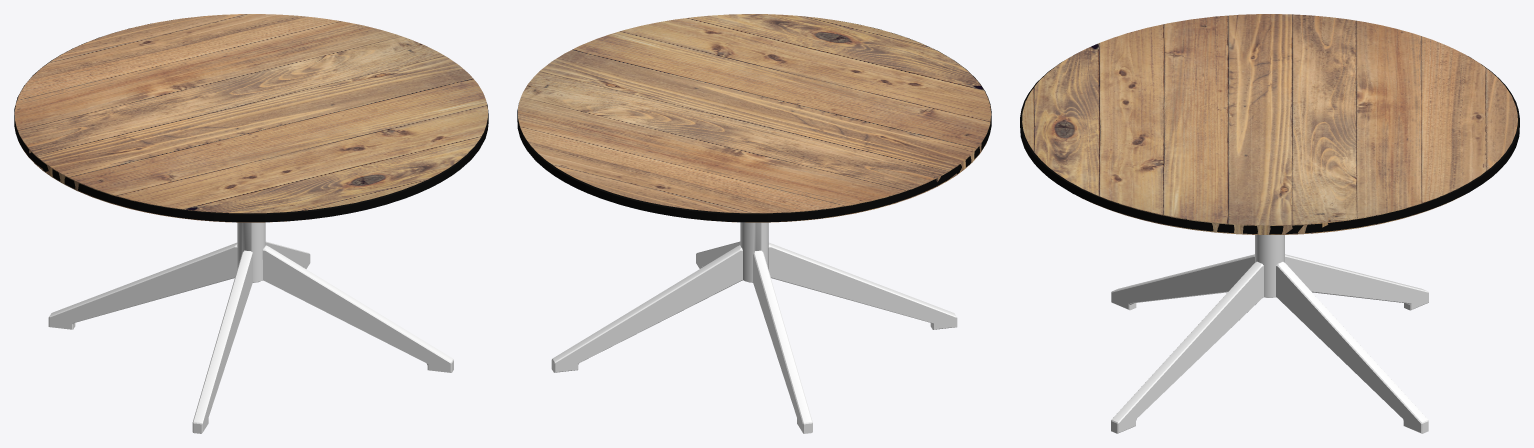
The model's file is model-krug-new.glb.
The picture shows the model from 3 angles, left to right: view 1: azimuth 30°, elevation 25°; view 2: azimuth 150°, elevation 25°; view 3: azimuth 270°, elevation 25°; orthographic projection. The views are drawn at different scales.
Parts seen in each view (by area): view 1: L_8d966dca_8afe_458f_9fc5_cabb543fb8d6_C1_I4, L_d5f370f3_7af2_4852_b3c4_884c1f749d2d_C1_I7, L_bbff62fc_4103_4c9c_8e8e_c560601854be_C1_I5, L_ea61aa8d_9d6e_4439_aafc_8b4f5b4d2b37_C1_I8, L_87a5ad65_50b4_454e_a42e_22bc071fdc33_C1_I3, L_70e3f1c8_df53_4a0b_abdf_076ae4eab81c_C1_I2, L_bfd296df_4c05_4615_90de_c7a12348349b_C1_I6; view 2: L_8d966dca_8afe_458f_9fc5_cabb543fb8d6_C1_I4, L_bfd296df_4c05_4615_90de_c7a12348349b_C1_I6, L_87a5ad65_50b4_454e_a42e_22bc071fdc33_C1_I3, L_ea61aa8d_9d6e_4439_aafc_8b4f5b4d2b37_C1_I8, L_bbff62fc_4103_4c9c_8e8e_c560601854be_C1_I5, L_70e3f1c8_df53_4a0b_abdf_076ae4eab81c_C1_I2, L_d5f370f3_7af2_4852_b3c4_884c1f749d2d_C1_I7; view 3: L_8d966dca_8afe_458f_9fc5_cabb543fb8d6_C1_I4, L_d5f370f3_7af2_4852_b3c4_884c1f749d2d_C1_I7, L_bfd296df_4c05_4615_90de_c7a12348349b_C1_I6, L_ea61aa8d_9d6e_4439_aafc_8b4f5b4d2b37_C1_I8, L_bbff62fc_4103_4c9c_8e8e_c560601854be_C1_I5, L_87a5ad65_50b4_454e_a42e_22bc071fdc33_C1_I3, L_70e3f1c8_df53_4a0b_abdf_076ae4eab81c_C1_I2.
Part boxes in pixels (x1,y1,x2,y2): L_8d966dca_8afe_458f_9fc5_cabb543fb8d6_C1_I4: (14,14,487,222); L_d5f370f3_7af2_4852_b3c4_884c1f749d2d_C1_I7: (262,245,453,372); L_bbff62fc_4103_4c9c_8e8e_c560601854be_C1_I5: (48,242,237,329); L_ea61aa8d_9d6e_4439_aafc_8b4f5b4d2b37_C1_I8: (14,23,488,222); L_87a5ad65_50b4_454e_a42e_22bc071fdc33_C1_I3: (192,250,252,433); L_70e3f1c8_df53_4a0b_abdf_076ae4eab81c_C1_I2: (237,222,265,282); L_bfd296df_4c05_4615_90de_c7a12348349b_C1_I6: (265,241,310,268); L_8d966dca_8afe_458f_9fc5_cabb543fb8d6_C1_I4: (518,14,991,222); L_bfd296df_4c05_4615_90de_c7a12348349b_C1_I6: (551,245,742,372); L_87a5ad65_50b4_454e_a42e_22bc071fdc33_C1_I3: (768,242,957,329); L_ea61aa8d_9d6e_4439_aafc_8b4f5b4d2b37_C1_I8: (517,24,991,222); L_bbff62fc_4103_4c9c_8e8e_c560601854be_C1_I5: (753,250,812,433); L_70e3f1c8_df53_4a0b_abdf_076ae4eab81c_C1_I2: (740,222,768,282); L_d5f370f3_7af2_4852_b3c4_884c1f749d2d_C1_I7: (696,241,740,268); L_8d966dca_8afe_458f_9fc5_cabb543fb8d6_C1_I4: (1022,14,1517,234); L_d5f370f3_7af2_4852_b3c4_884c1f749d2d_C1_I7: (1111,261,1263,433); L_bfd296df_4c05_4615_90de_c7a12348349b_C1_I6: (1276,261,1428,433); L_ea61aa8d_9d6e_4439_aafc_8b4f5b4d2b37_C1_I8: (1020,56,1519,234); L_bbff62fc_4103_4c9c_8e8e_c560601854be_C1_I5: (1285,254,1428,310); L_87a5ad65_50b4_454e_a42e_22bc071fdc33_C1_I3: (1111,254,1254,310); L_70e3f1c8_df53_4a0b_abdf_076ae4eab81c_C1_I2: (1255,235,1284,297).
Bounding box in the file's own units: 100 × 54.59 × 99.99.
Materials: 8 (1 with a texture image).
